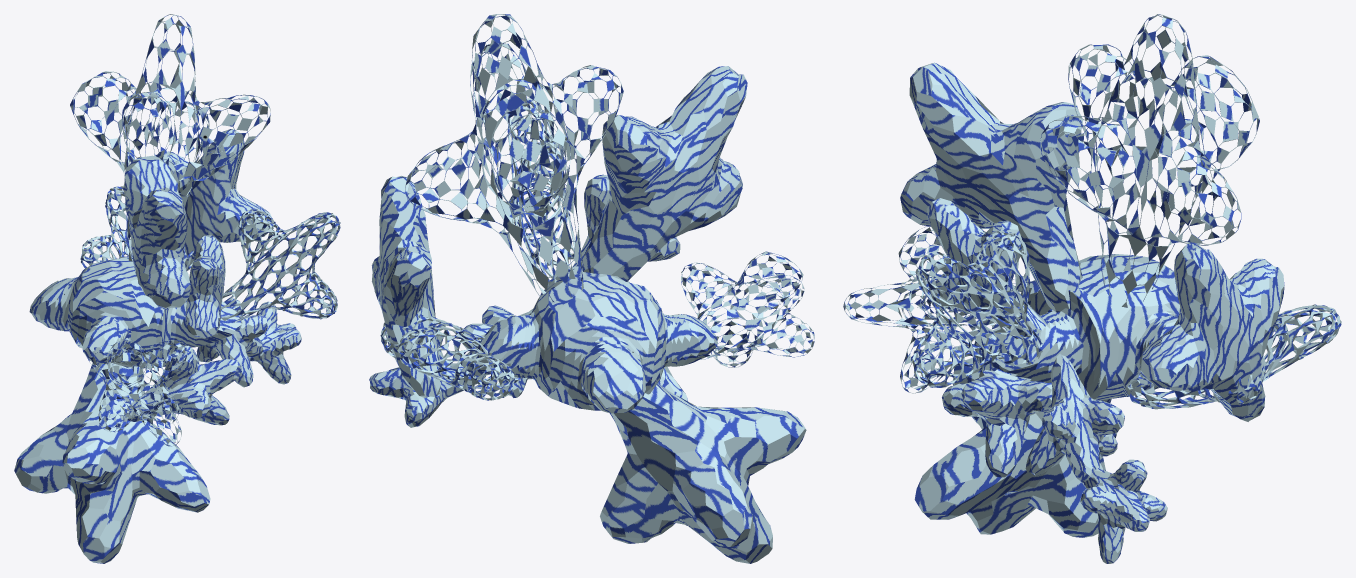
The model's file is corail 3.glb.
The picture shows the model from 3 angles, left to right: view 1: azimuth 30°, elevation 25°; view 2: azimuth 150°, elevation 25°; view 3: azimuth 270°, elevation 25°; orthographic projection. The views are drawn at different scales.
Parts seen in each view (by area): view 1: DualMesh.011, DualMesh.005, DualMesh.001, DualMesh.004, DualMesh.007, DualMesh.008, DualMesh.010, DualMesh.012, DualMesh.003, DualMesh.014, DualMesh.013, DualMesh.009; view 2: DualMesh.011, DualMesh.005, DualMesh.004, DualMesh.001, DualMesh.008, DualMesh.010, DualMesh.009, DualMesh.007, DualMesh.013, DualMesh.003, DualMesh.014; view 3: DualMesh.004, DualMesh.001, DualMesh.008, DualMesh.005, DualMesh.011, DualMesh.007, DualMesh.014, DualMesh.012, DualMesh.003, DualMesh.009, DualMesh.013, DualMesh.010.
Boxes of the visible parts, left/top/right/bottom form: DualMesh.011: left=14, top=363, right=210, bottom=563; DualMesh.005: left=29, top=256, right=242, bottom=368; DualMesh.001: left=70, top=14, right=270, bottom=261; DualMesh.004: left=123, top=155, right=190, bottom=309; DualMesh.007: left=221, top=209, right=340, bottom=322; DualMesh.008: left=156, top=129, right=274, bottom=267; DualMesh.010: left=87, top=338, right=187, bottom=446; DualMesh.012: left=124, top=345, right=241, bottom=425; DualMesh.003: left=185, top=235, right=225, bottom=338; DualMesh.014: left=196, top=298, right=267, bottom=387; DualMesh.013: left=248, top=301, right=301, bottom=384; DualMesh.009: left=80, top=186, right=193, bottom=271; DualMesh.011: left=600, top=383, right=806, bottom=563; DualMesh.005: left=476, top=266, right=717, bottom=413; DualMesh.004: left=579, top=66, right=747, bottom=281; DualMesh.001: left=405, top=14, right=623, bottom=302; DualMesh.008: left=371, top=176, right=442, bottom=397; DualMesh.010: left=681, top=251, right=814, bottom=367; DualMesh.009: left=380, top=315, right=522, bottom=400; DualMesh.007: left=507, top=98, right=575, bottom=285; DualMesh.013: left=369, top=363, right=485, bottom=427; DualMesh.003: left=572, top=174, right=680, bottom=267; DualMesh.014: left=460, top=305, right=533, bottom=397; DualMesh.004: left=900, top=62, right=1083, bottom=312; DualMesh.001: left=1040, top=14, right=1259, bottom=307; DualMesh.008: left=1139, top=243, right=1284, bottom=421; DualMesh.005: left=989, top=254, right=1179, bottom=400; DualMesh.011: left=914, top=357, right=1116, bottom=537; DualMesh.007: left=912, top=230, right=1042, bottom=387; DualMesh.014: left=1025, top=353, right=1124, bottom=482; DualMesh.012: left=942, top=334, right=1052, bottom=477; DualMesh.003: left=926, top=198, right=1047, bottom=337; DualMesh.009: left=1125, top=304, right=1341, bottom=409; DualMesh.013: left=1080, top=459, right=1167, bottom=563; DualMesh.010: left=843, top=226, right=1031, bottom=393.
Bounding box in the file's own units: 6.43 × 9.6 × 7.2.
Materials: 1 (1 with a texture image).
